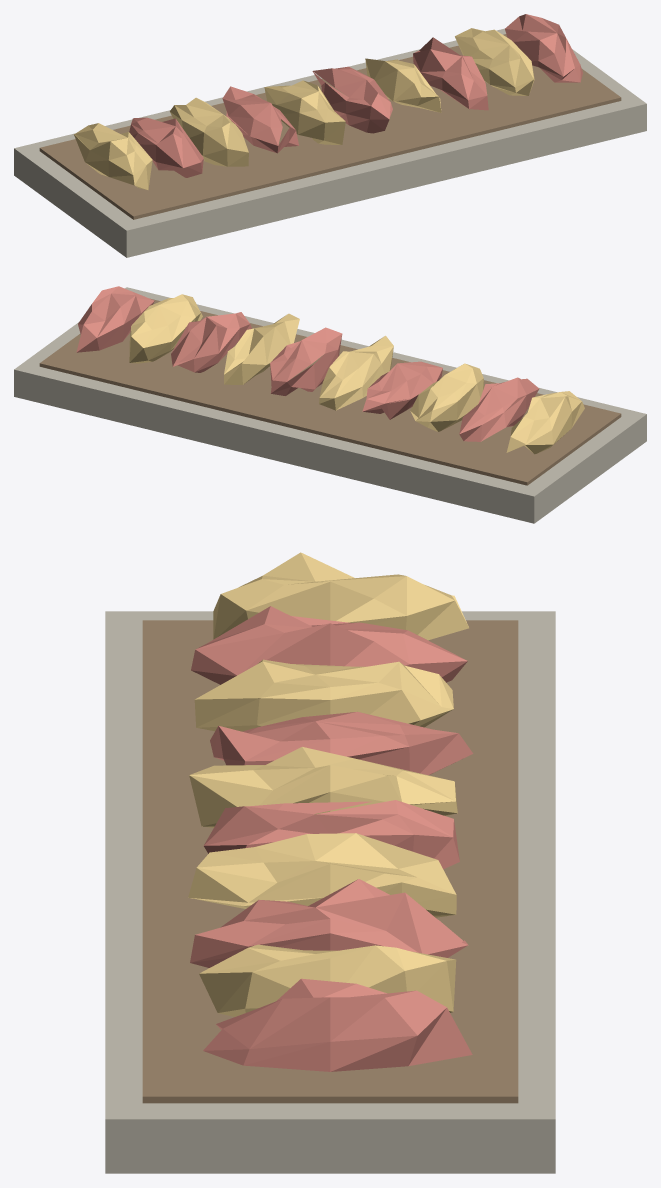
The picture shows the model from 3 angles, top to bottom: view 1: azimuth 30°, elevation 25°; view 2: azimuth 150°, elevation 25°; view 3: azimuth 270°, elevation 25°; orthographic projection. The views are drawn at different scales.
Size of the model in its own units: 8 by 1.07 by 3.
